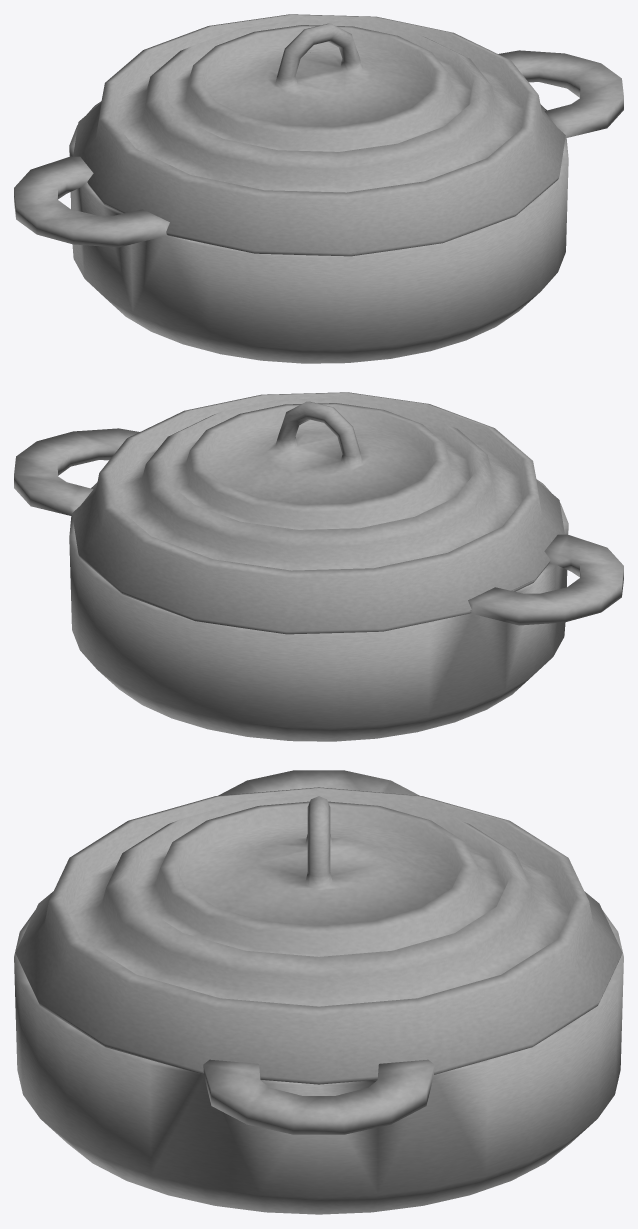
File: cookingpot_001.glb
The picture shows the model from 3 angles, top to bottom: view 1: azimuth 30°, elevation 25°; view 2: azimuth 150°, elevation 25°; view 3: azimuth 270°, elevation 25°; orthographic projection. The views are drawn at different scales.
Visible parts, largest first — view 1: cookingpotpot.001, cookingpot.001; view 2: cookingpotpot.001, cookingpot.001; view 3: cookingpotpot.001, cookingpot.001.
Boxes of the visible parts, x1,y1,x2,y2 form: cookingpotpot.001: (73, 14, 565, 256); cookingpot.001: (14, 50, 623, 363); cookingpotpot.001: (72, 392, 564, 634); cookingpot.001: (14, 428, 623, 741); cookingpotpot.001: (15, 787, 622, 1084); cookingpot.001: (14, 770, 623, 1214).
Bounding box in the file's own units: 5.18 × 2.07 × 3.84.
Materials: 1 (1 with a texture image).
